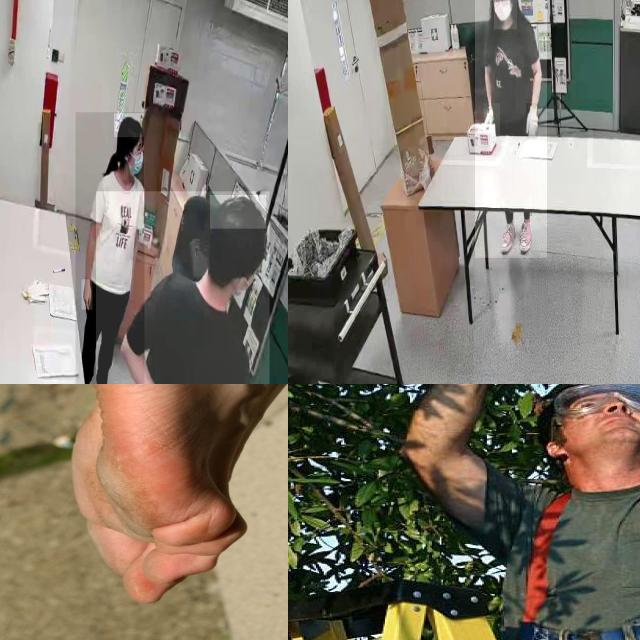Barefoots: (0, 384, 250, 606)
Harness: (506, 493, 640, 640)
face_mask: (123, 137, 145, 180), (494, 0, 517, 30)
hand_glove: (484, 103, 501, 136), (527, 103, 539, 140)
hand_noglove: (81, 280, 93, 310)
head_nohelmet: (210, 195, 267, 229), (114, 113, 145, 138)
person: (96, 191, 270, 384), (474, 0, 547, 258), (75, 112, 144, 384)
shoes: (499, 216, 516, 254), (518, 219, 534, 257)
